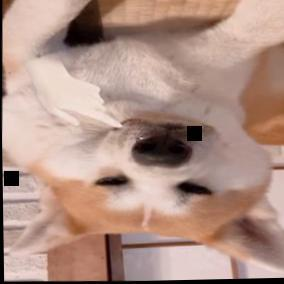nasal_discharge: (130, 131, 156, 158)
